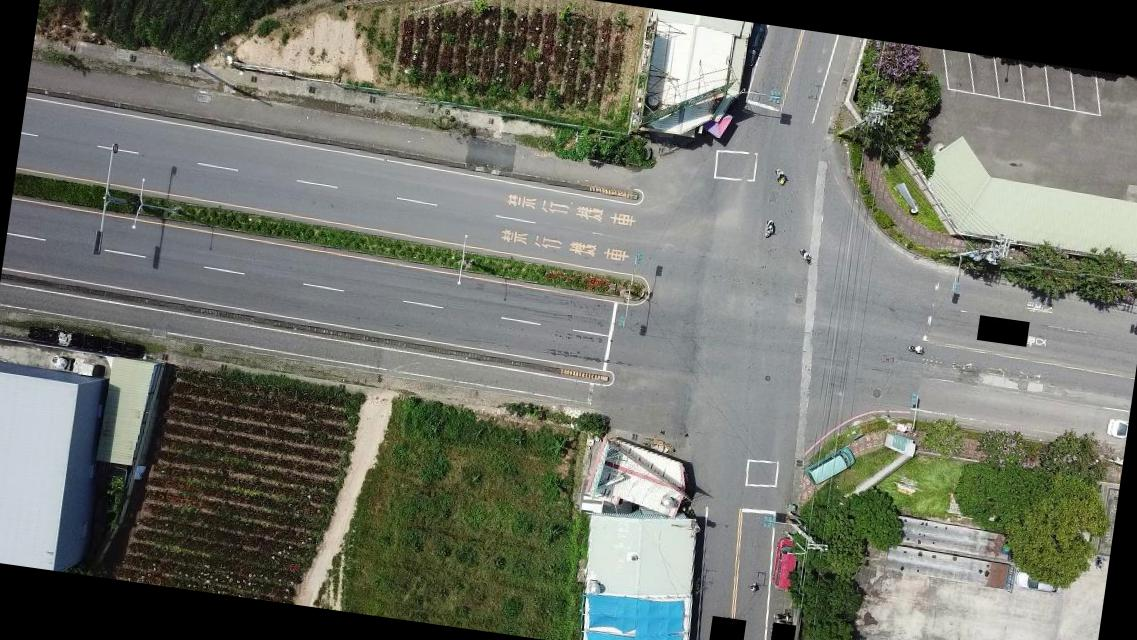vehicle: (804, 443, 858, 492), (766, 533, 801, 595), (741, 22, 768, 71), (1014, 568, 1064, 593), (1102, 416, 1128, 440)
